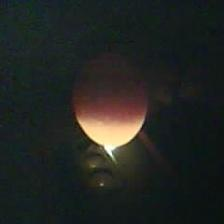fertile: (71, 51, 150, 147)
